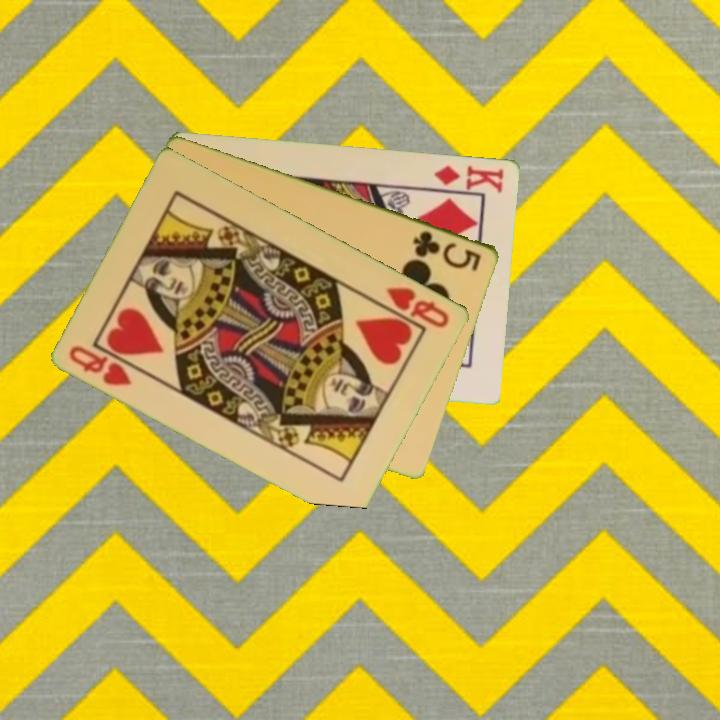5c: (410, 226, 485, 273)
Kd: (431, 161, 507, 196)
Qh: (383, 283, 453, 331), (66, 341, 136, 389)
